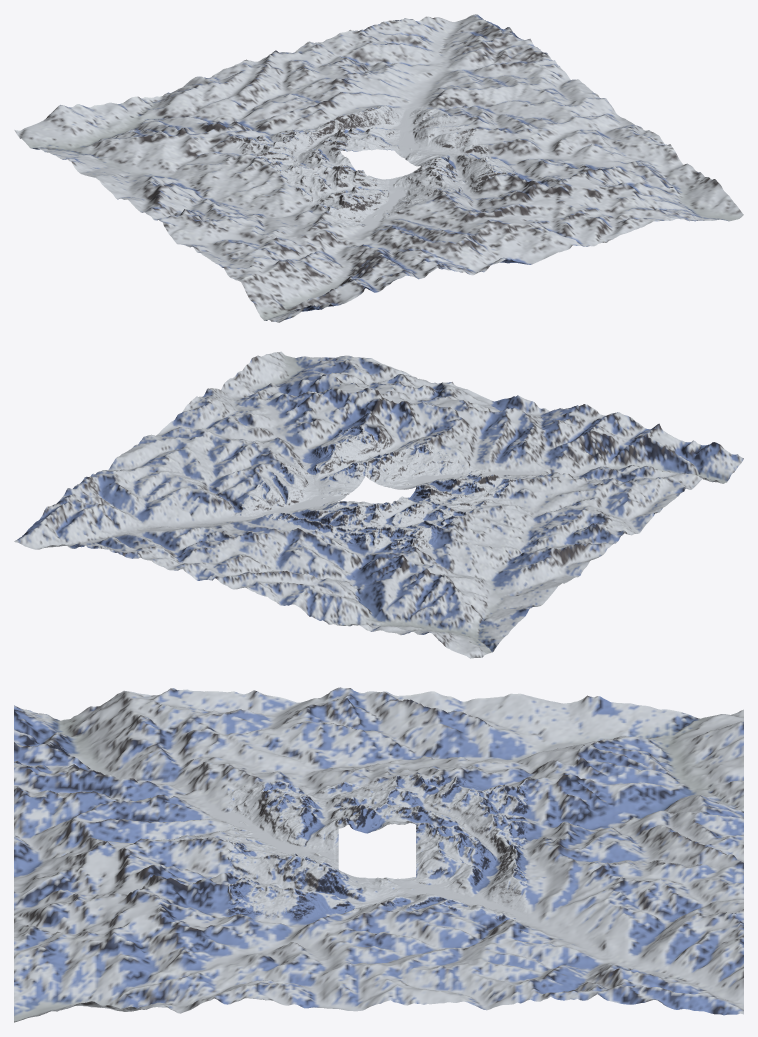
Rendered from panorama.glb.
The picture shows the model from 3 angles, top to bottom: view 1: azimuth 30°, elevation 25°; view 2: azimuth 150°, elevation 25°; view 3: azimuth 270°, elevation 25°; orthographic projection. The views are drawn at different scales.
Visible parts, largest first — view 1: Panorama_Far, Panorama_Near; view 2: Panorama_Far, Panorama_Near; view 3: Panorama_Far, Panorama_Near.
Part boxes in pixels (x1=…): Panorama_Far: x1=14, y1=14, x2=743, y2=322; Panorama_Near: x1=230, y1=105, x2=525, y2=225; Panorama_Far: x1=14, y1=351, x2=743, y2=658; Panorama_Near: x1=231, y1=425, x2=528, y2=551; Panorama_Far: x1=14, y1=687, x2=743, y2=1022; Panorama_Near: x1=227, y1=774, x2=527, y2=923.
Size of the model in its own units: 43800 by 3225 by 43800.
